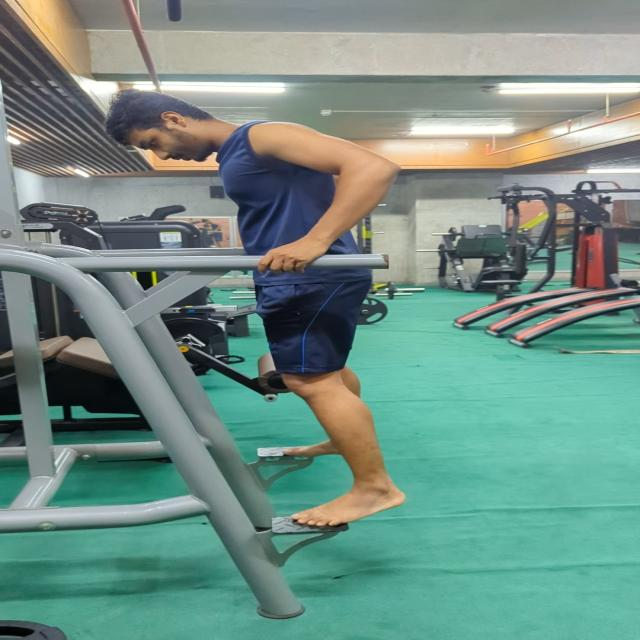Normal_Dips: (100, 82, 420, 540)
